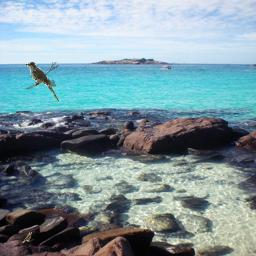Cuckoo: (26, 62, 59, 102)
Sparrow: (22, 232, 32, 243)
